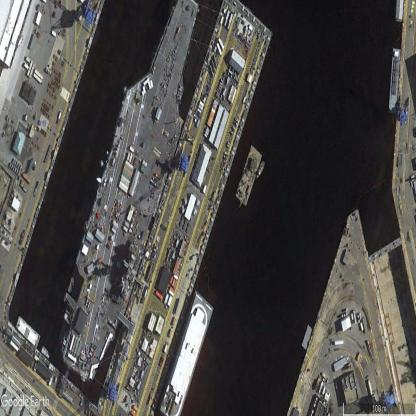ship: (58, 0, 199, 382), (256, 159, 265, 182)
